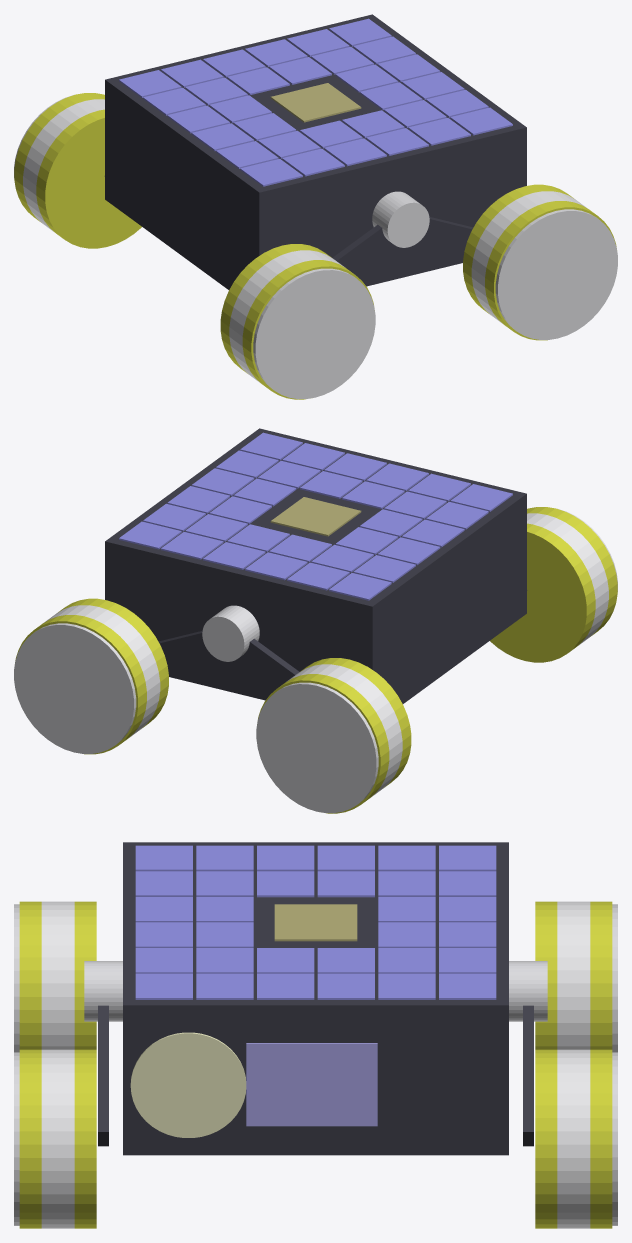
File: rover_cg.glb
3 views of the same model, one above another, from view 1: azimuth 30°, elevation 25°; view 2: azimuth 150°, elevation 25°; view 3: azimuth 270°, elevation 25° (orthographic). The views are drawn at different scales.
Visible parts, largest first — view 1: chassis_mesh0, chassis_mesh1, wheel_RF_mesh2, wheel_RA_mesh2, wheel_LA_mesh0, wheel_RA_mesh0, wheel_RF_mesh0, wheel_RF_mesh1, wheel_RA_mesh1, chassis_mesh5, wheel_LA_mesh1, chassis_mesh2 (+2 smaller); view 2: chassis_mesh0, chassis_mesh1, wheel_LF_mesh2, wheel_LA_mesh2, wheel_RA_mesh0, wheel_LA_mesh0, wheel_LF_mesh0, wheel_LF_mesh1, wheel_LA_mesh1, chassis_mesh5, wheel_RA_mesh1, chassis_mesh2 (+2 smaller); view 3: chassis_mesh0, chassis_mesh1, chassis_mesh4, chassis_mesh3, wheel_LF_mesh0, wheel_RF_mesh0, wheel_LA_mesh0, wheel_RA_mesh0, wheel_LF_mesh1, wheel_RF_mesh1, wheel_LA_mesh1, wheel_RA_mesh1 (+8 smaller).
Part boxes in pixels (left/top/right/bottom): chassis_mesh0: left=105, top=14, right=526, bottom=289; chassis_mesh1: left=119, top=18, right=512, bottom=186; wheel_RF_mesh2: left=495, top=209, right=617, bottom=339; wheel_RA_mesh2: left=253, top=268, right=375, bottom=399; wheel_LA_mesh0: left=14, top=93, right=141, bottom=248; wheel_RA_mesh0: left=220, top=244, right=373, bottom=399; wheel_RF_mesh0: left=463, top=184, right=616, bottom=340; wheel_RF_mesh1: left=471, top=191, right=587, bottom=323; wheel_RA_mesh1: left=229, top=250, right=345, bottom=382; chassis_mesh5: left=372, top=191, right=429, bottom=247; wheel_LA_mesh1: left=23, top=99, right=104, bottom=231; chassis_mesh2: left=270, top=83, right=361, bottom=122; chassis_mesh0: left=105, top=428, right=526, bottom=703; chassis_mesh1: left=119, top=432, right=512, bottom=600; wheel_LF_mesh2: left=14, top=623, right=136, bottom=753; wheel_LA_mesh2: left=256, top=682, right=378, bottom=813; wheel_RA_mesh0: left=490, top=507, right=617, bottom=662; wheel_LA_mesh0: left=258, top=658, right=411, bottom=813; wheel_LF_mesh0: left=15, top=598, right=168, bottom=754; wheel_LF_mesh1: left=44, top=605, right=160, bottom=737; wheel_LA_mesh1: left=286, top=664, right=402, bottom=796; chassis_mesh5: left=202, top=605, right=259, bottom=661; wheel_RA_mesh1: left=527, top=513, right=608, bottom=645; chassis_mesh2: left=270, top=497, right=361, bottom=536; chassis_mesh0: left=123, top=842, right=508, bottom=1155; chassis_mesh1: left=135, top=845, right=496, bottom=999; chassis_mesh4: left=246, top=1043, right=377, bottom=1126; chassis_mesh3: left=130, top=1032, right=246, bottom=1137; wheel_LF_mesh0: left=535, top=1049, right=612, bottom=1228; wheel_RF_mesh0: left=19, top=1049, right=96, bottom=1228; wheel_LA_mesh0: left=535, top=901, right=612, bottom=1049; wheel_RA_mesh0: left=19, top=901, right=96, bottom=1049; wheel_LF_mesh1: left=557, top=1049, right=590, bottom=1228; wheel_RF_mesh1: left=41, top=1049, right=74, bottom=1228; wheel_LA_mesh1: left=557, top=901, right=590, bottom=1049; wheel_RA_mesh1: left=41, top=901, right=74, bottom=1049.
Size of the model in its own units: 0.1917 by 0.0899 by 0.219.
